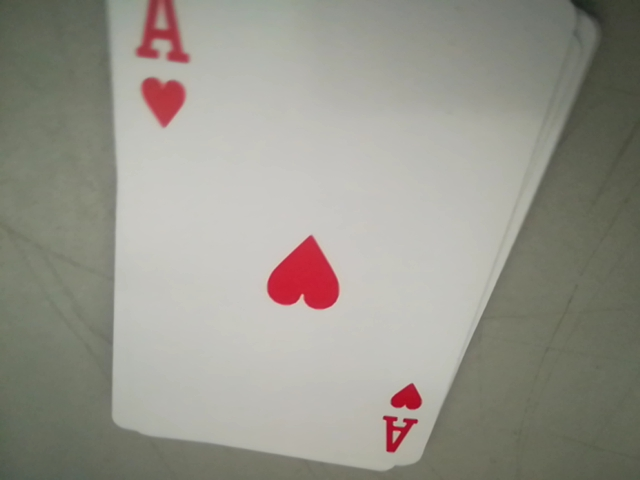hx a: (377, 387, 432, 461)
